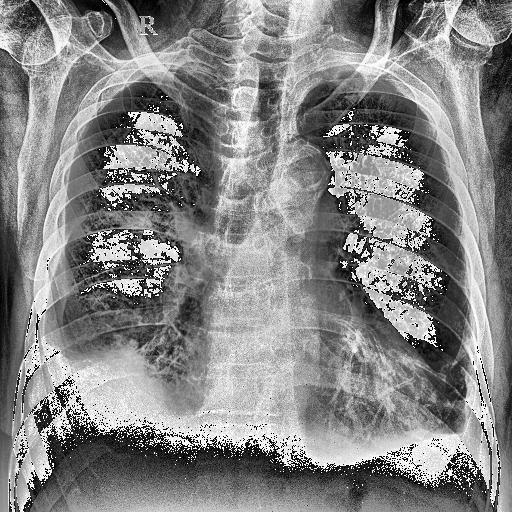1- Atelectasis: (68, 296, 192, 387)
10- Pleural effusion: (0, 292, 188, 424), (330, 340, 494, 475), (28, 316, 199, 432), (394, 314, 500, 456), (14, 354, 175, 431)
11- Pleural thickening: (410, 362, 494, 460)
2- Calcification: (283, 125, 341, 208), (282, 136, 342, 204)
4- Consolidation: (78, 282, 206, 392), (100, 163, 201, 253), (94, 184, 184, 246)
5- ILD: (117, 182, 199, 246)
